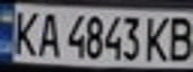3: (121, 12, 145, 62)
4: (103, 12, 127, 61), (63, 10, 87, 58)
8: (84, 11, 106, 61)
A: (33, 9, 63, 58)
B: (163, 12, 193, 62)
K: (9, 7, 42, 57), (142, 12, 172, 63)
